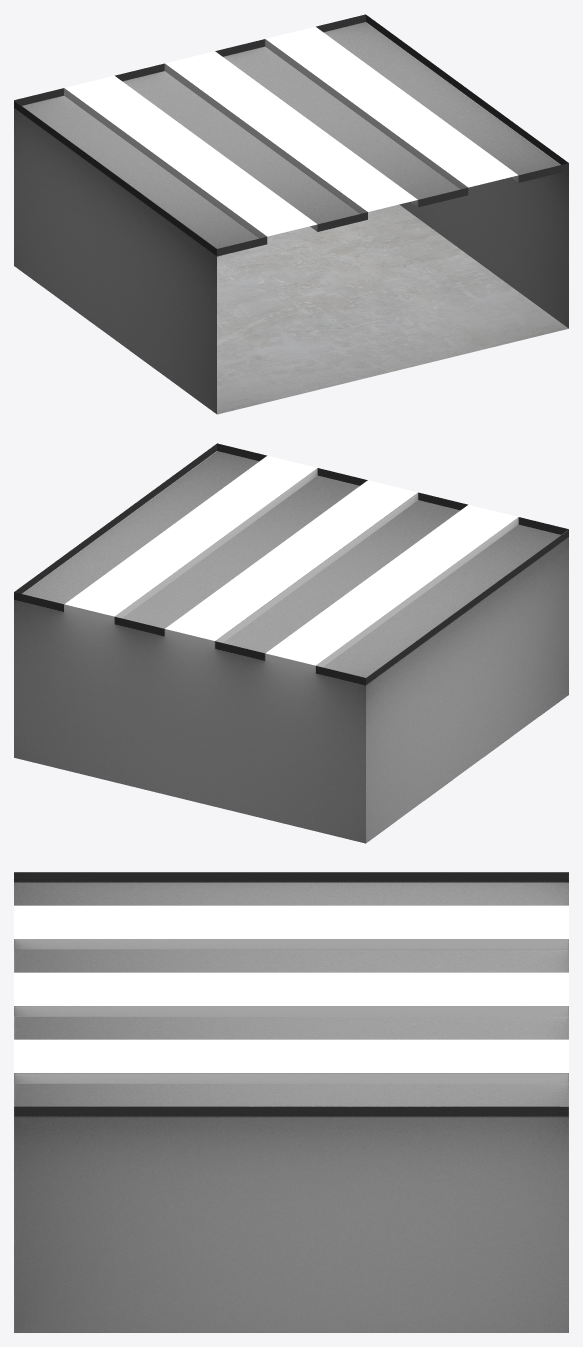
File: room.glb
3 views of the same model, one above another, from view 1: azimuth 30°, elevation 25°; view 2: azimuth 150°, elevation 25°; view 3: azimuth 270°, elevation 25° (orthographic). The views are drawn at different scales.
Visible parts, largest first — view 1: room, lights; view 2: room, lights; view 3: room, lights.
Part boxes in pixels (box(x1,y1,x2,y2)): room: box(14, 14, 568, 414); lights: box(65, 26, 517, 236); room: box(14, 443, 568, 843); lights: box(65, 455, 517, 665); room: box(14, 872, 568, 1332); lights: box(14, 905, 568, 1072).
Bounding box in the file's own units: 4 × 1.8 × 4.
3 materials, 1 textured.
